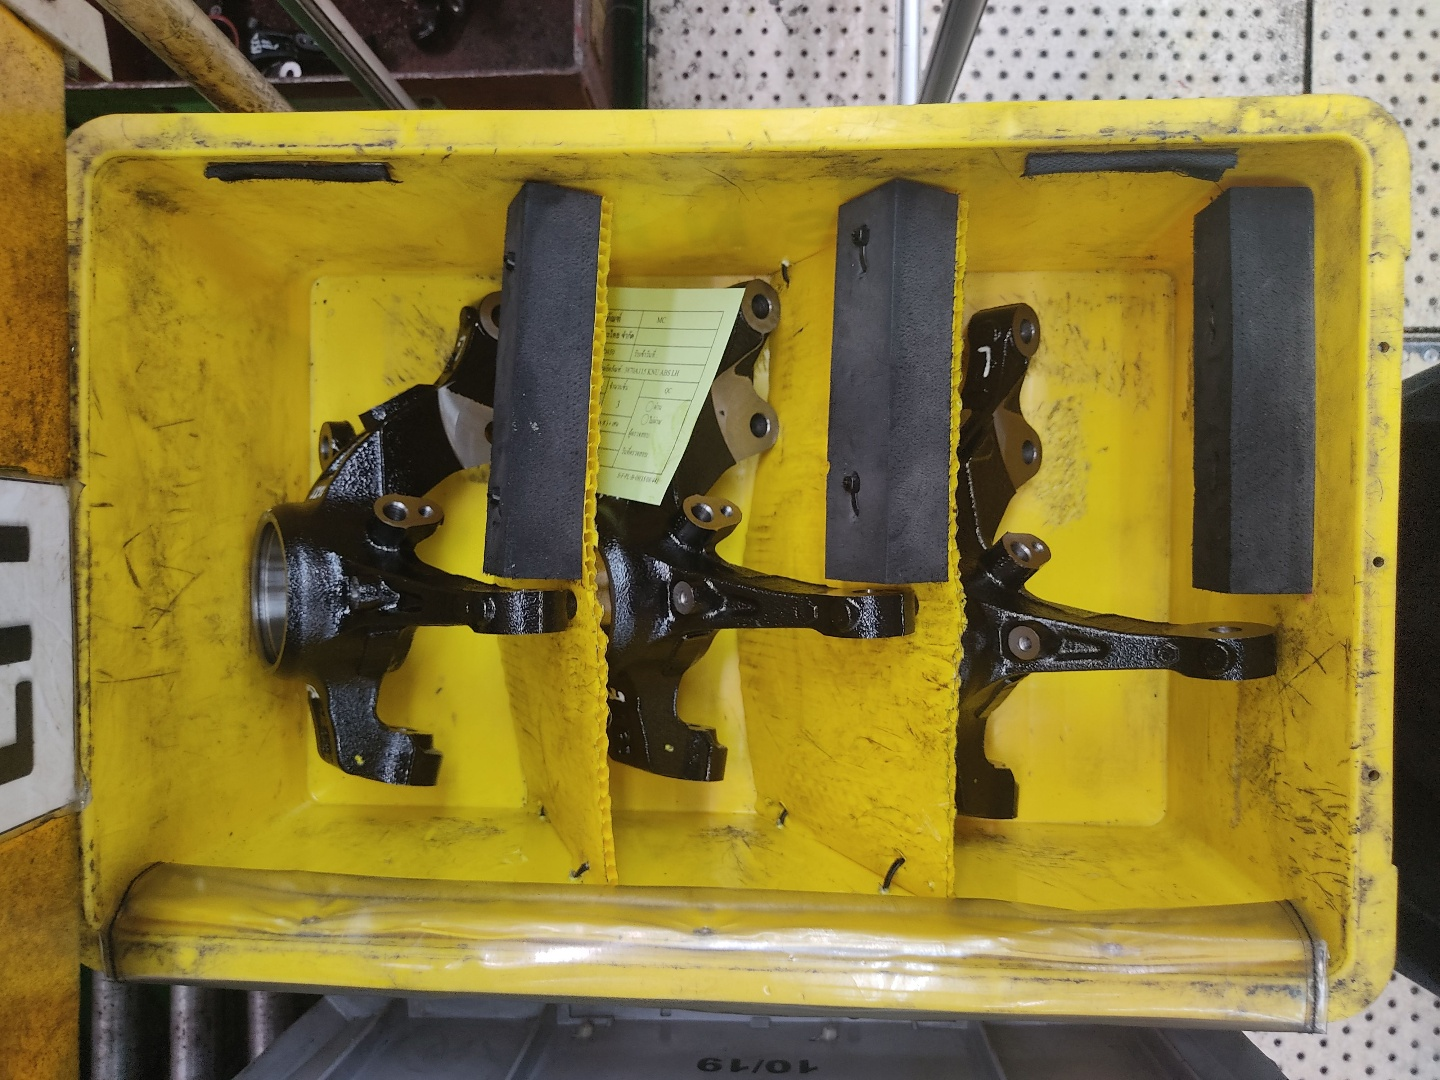abs-lh: (582, 270, 931, 796), (947, 292, 1286, 827), (235, 282, 582, 791)
